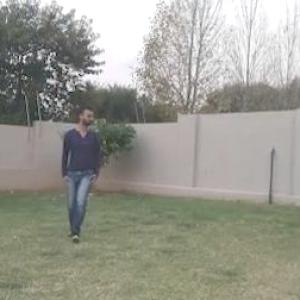follow: (62, 102, 96, 237)
